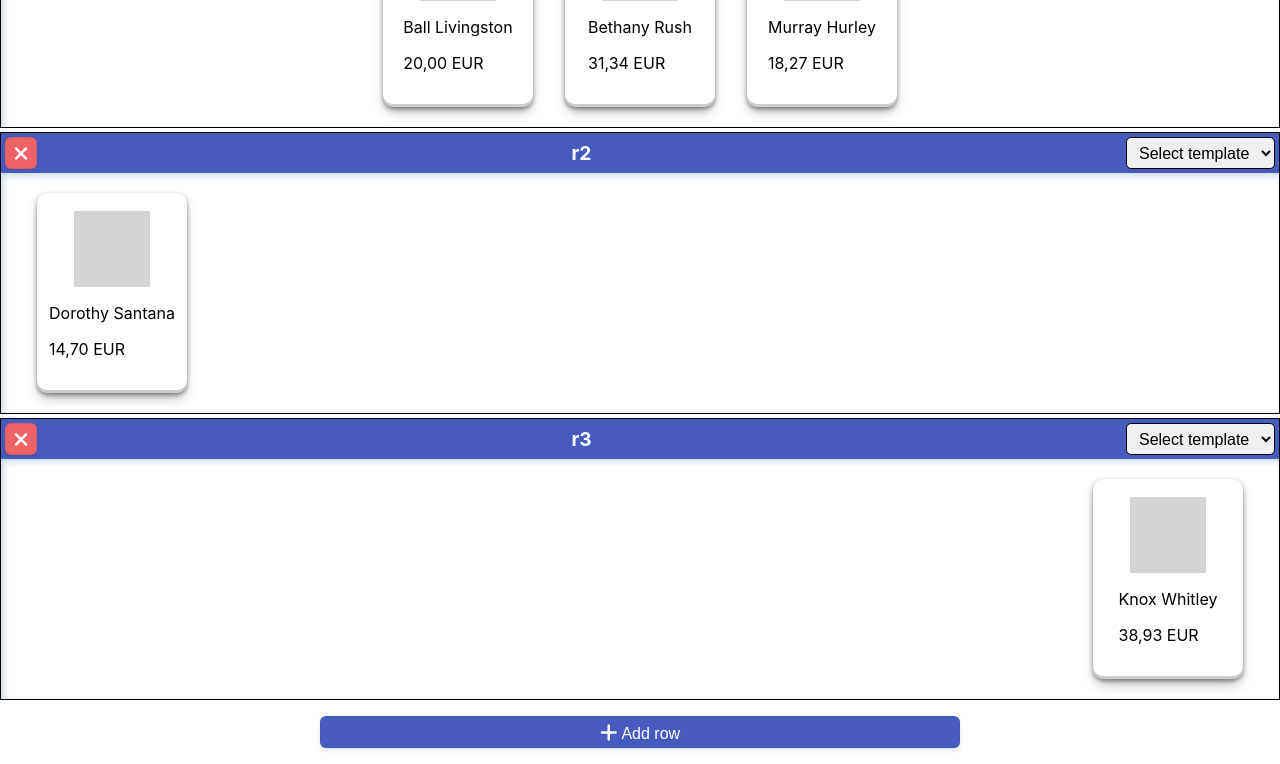
DraggableGrid › can add a row
(page scrolled)
Click the button "Add row" at (640,732), box [320, 716, 960, 748]
(page scrolled)
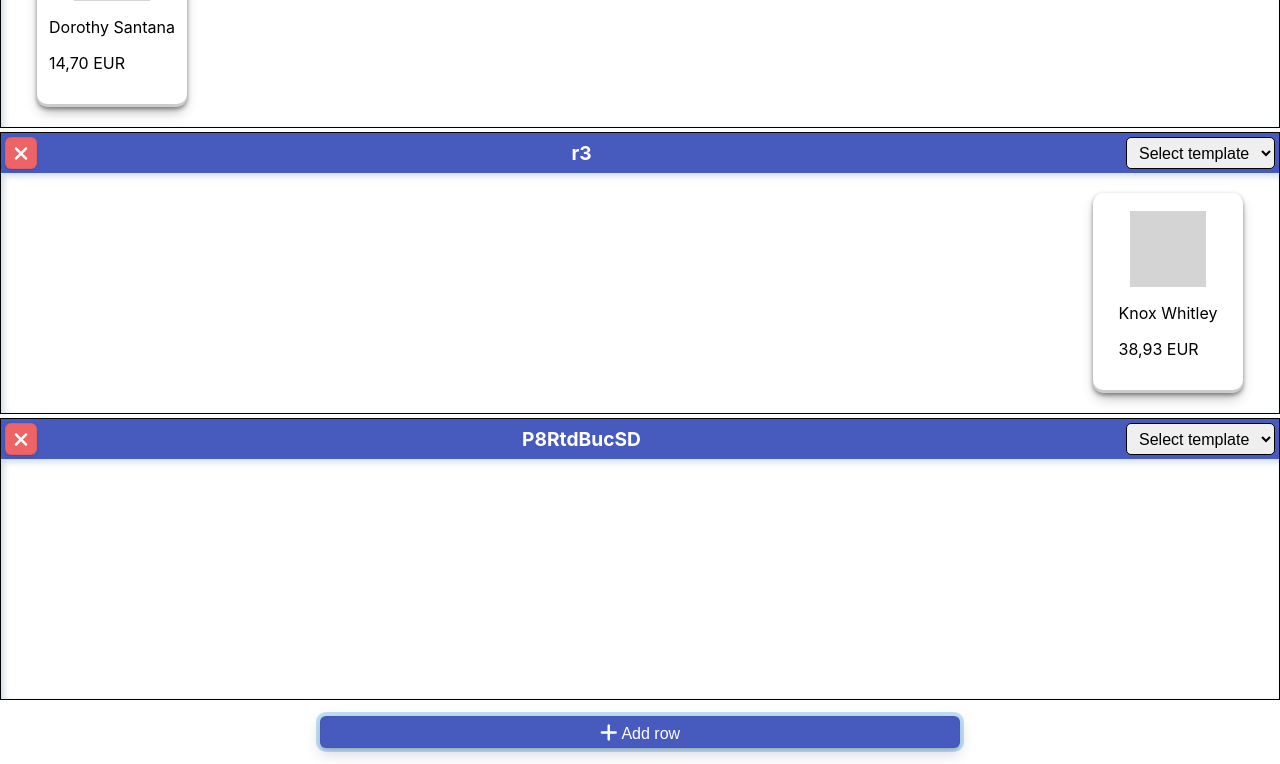
Now the number of fields labelled "Delete row" is 4
